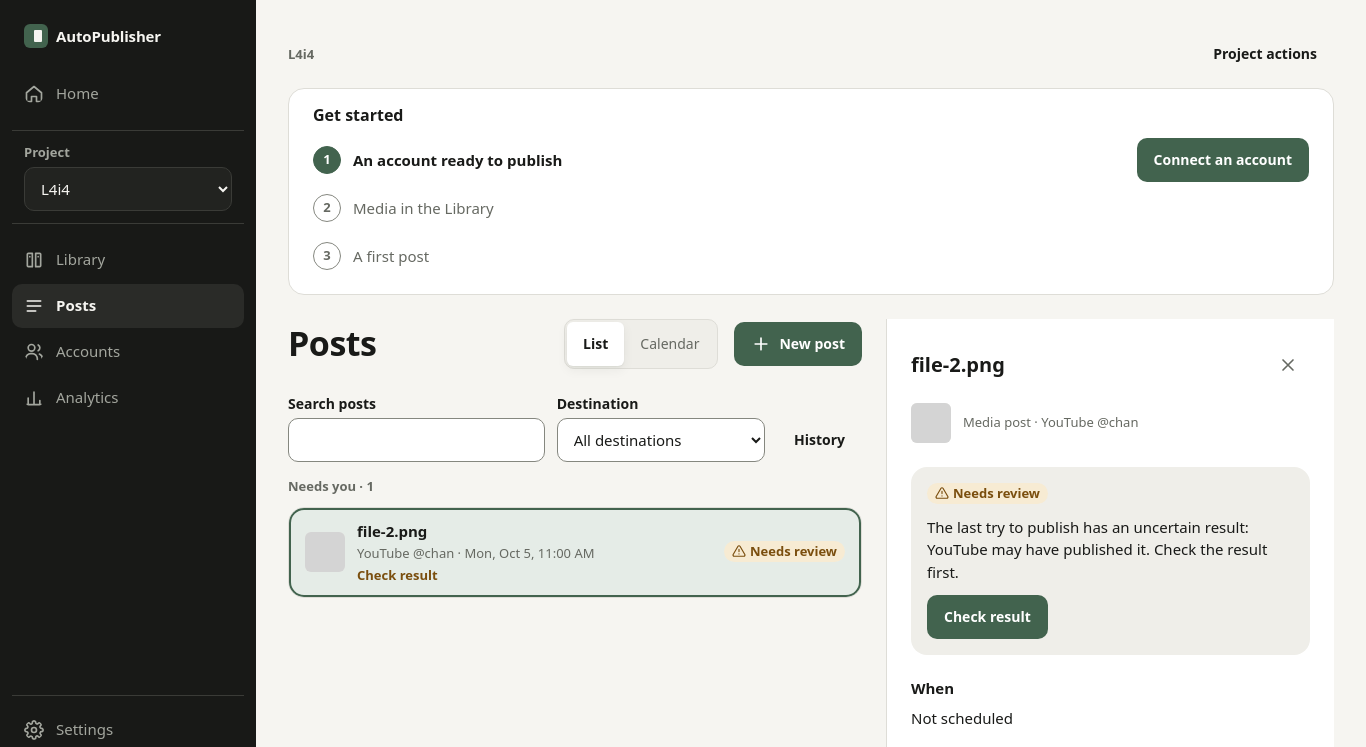
Test: when the check resolves the result, the Post shows its determined state
The width and height of the screenshot is (1366, 747).
Step 1. Click the button "Check result" → [987, 617], box [927,595,1048,639]
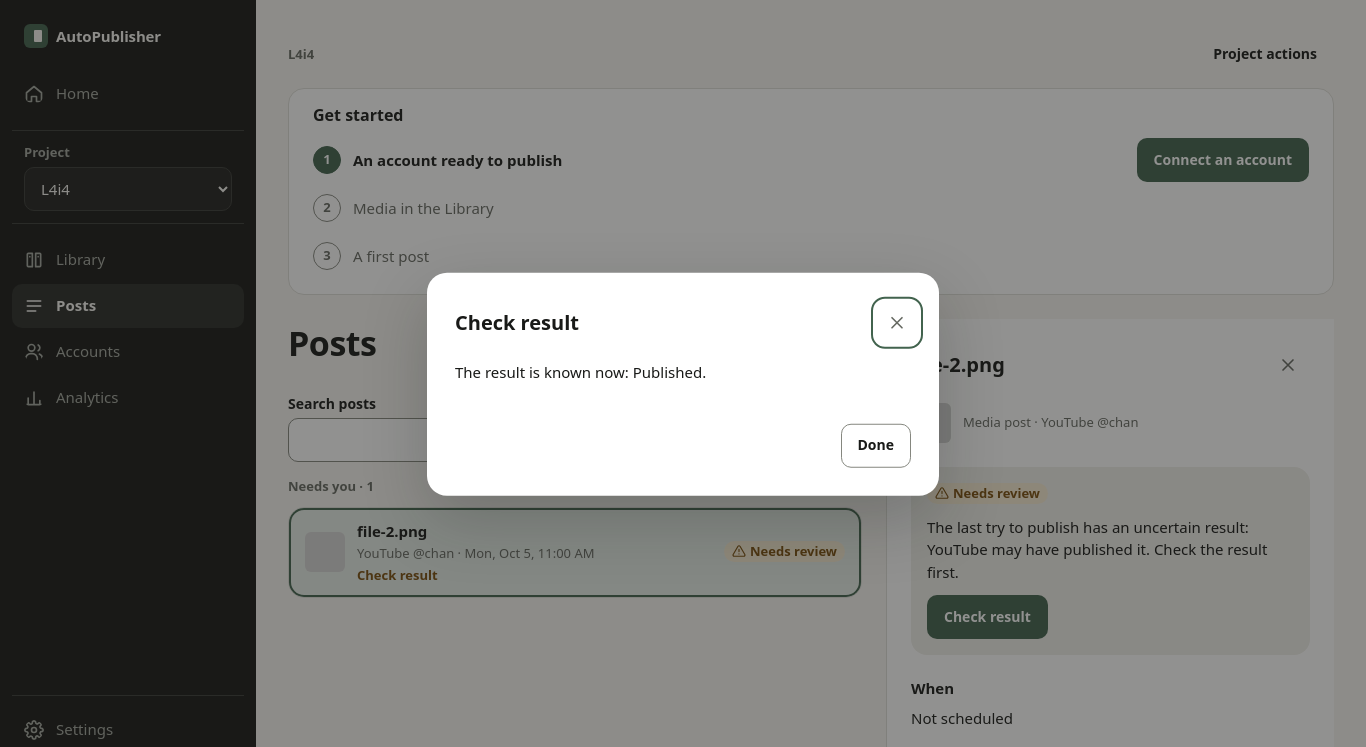
Result: the text "The result is known now: Published." is shown at [455,362,706,382]
Step 2. Click the button "Done" → [876, 445], box [840,423,911,467]
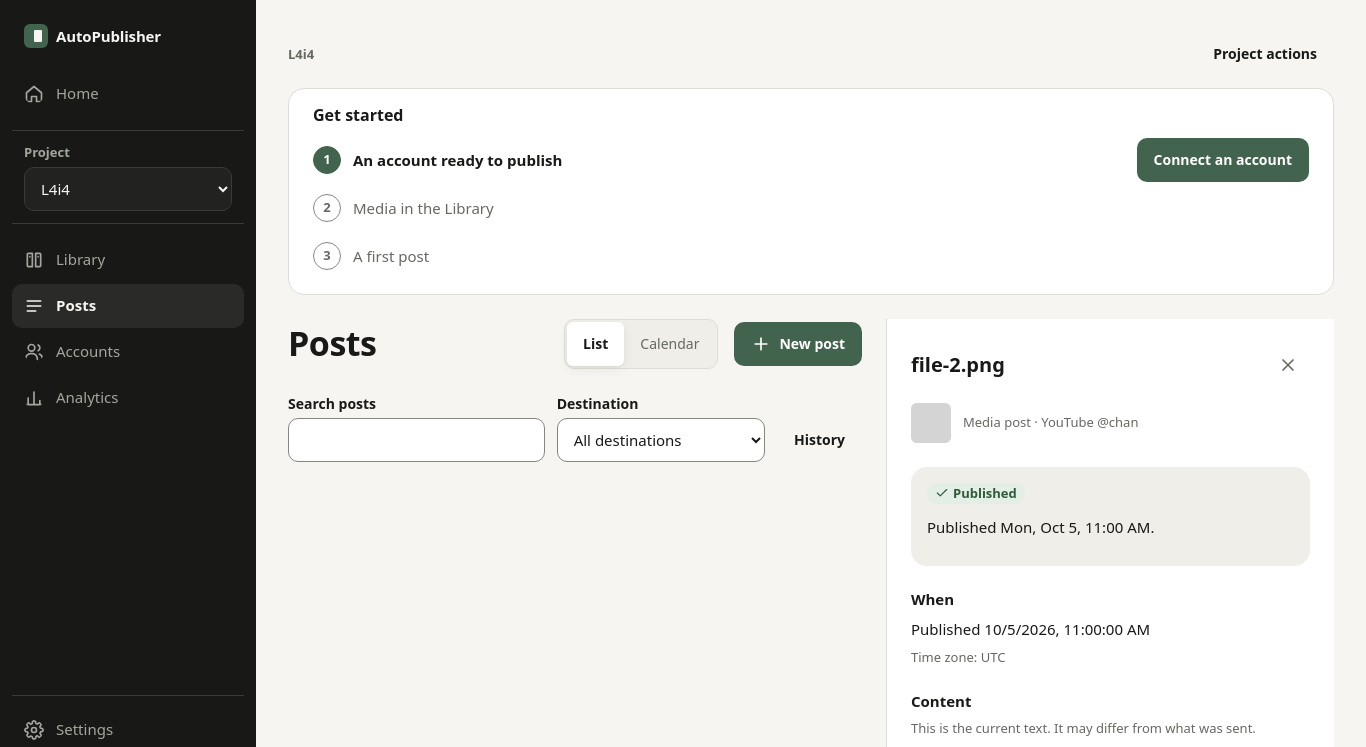
Result: the text "Published" is shown at [953,485,1017,502]
